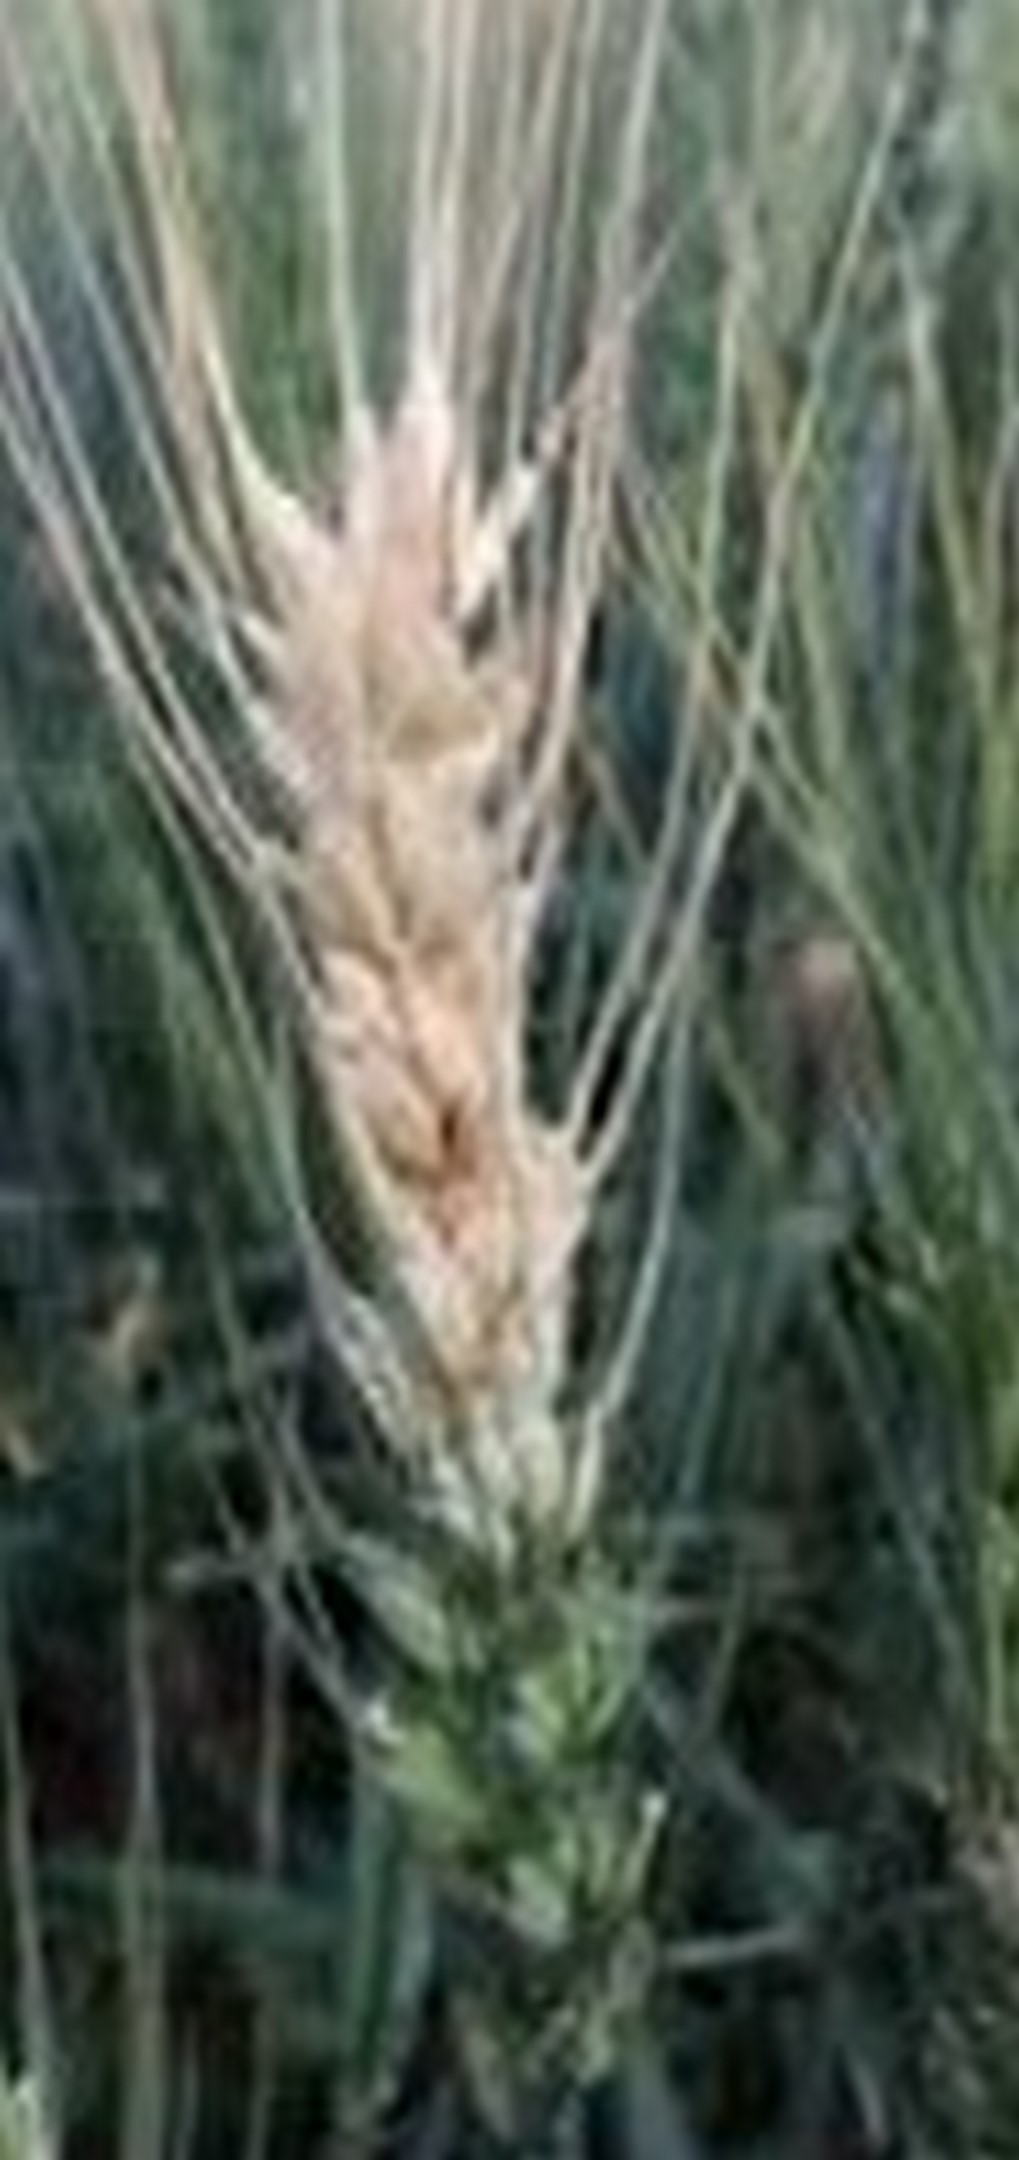Wheat scab: (224, 366, 728, 2010)
